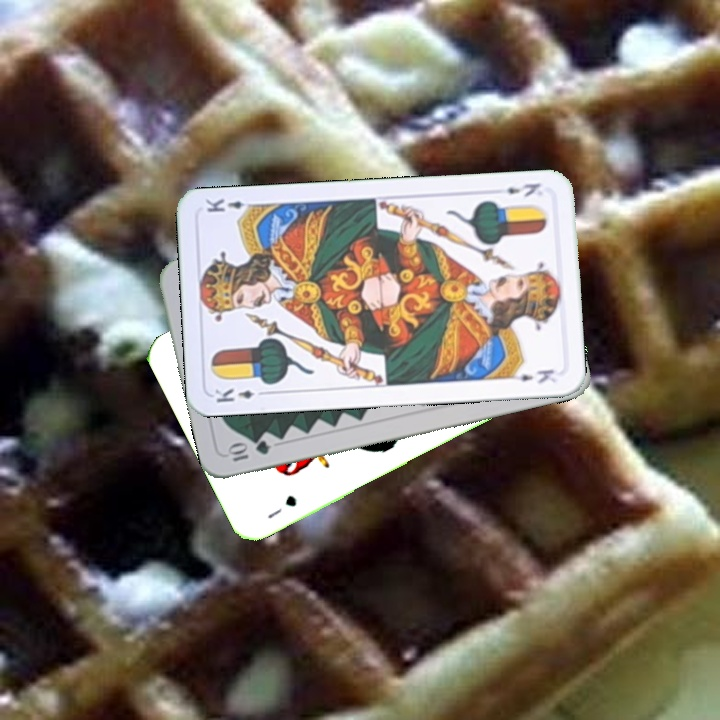EK: (211, 385, 270, 405), (502, 179, 543, 200)
G10: (224, 436, 273, 464)
GU: (263, 491, 299, 522)
